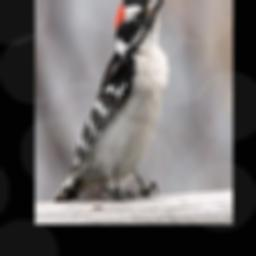Woodpecker: (55, 0, 171, 205)
